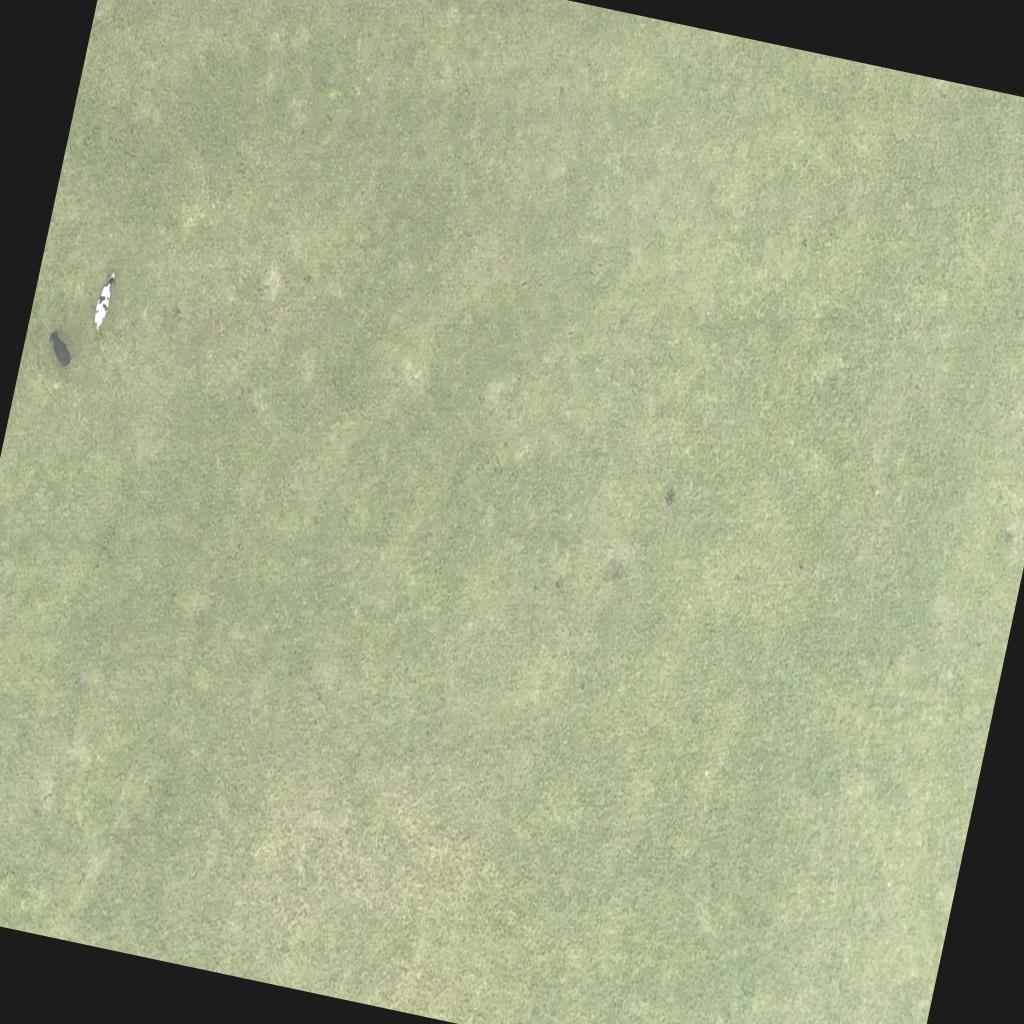cow: (92, 264, 122, 334), (42, 326, 80, 372)
